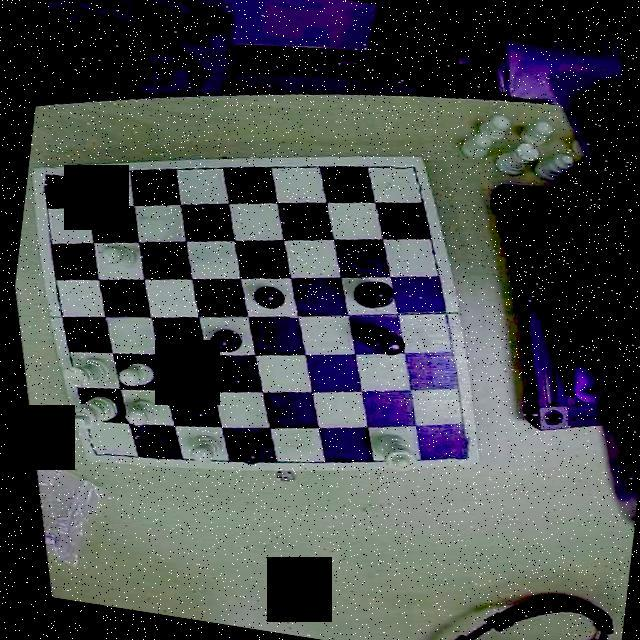chess-table-corners: (434, 430, 475, 470), (386, 156, 426, 195), (27, 162, 68, 199), (73, 434, 110, 466)
